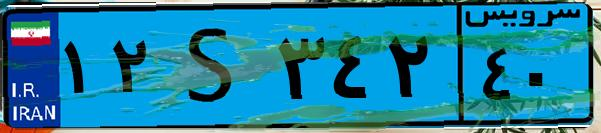0: (525, 38, 570, 115)
1: (57, 26, 110, 100)
2: (385, 28, 445, 110), (110, 28, 158, 98)
3: (270, 28, 330, 110)
4: (330, 28, 385, 110), (475, 38, 525, 113)
S: (158, 12, 270, 120)
